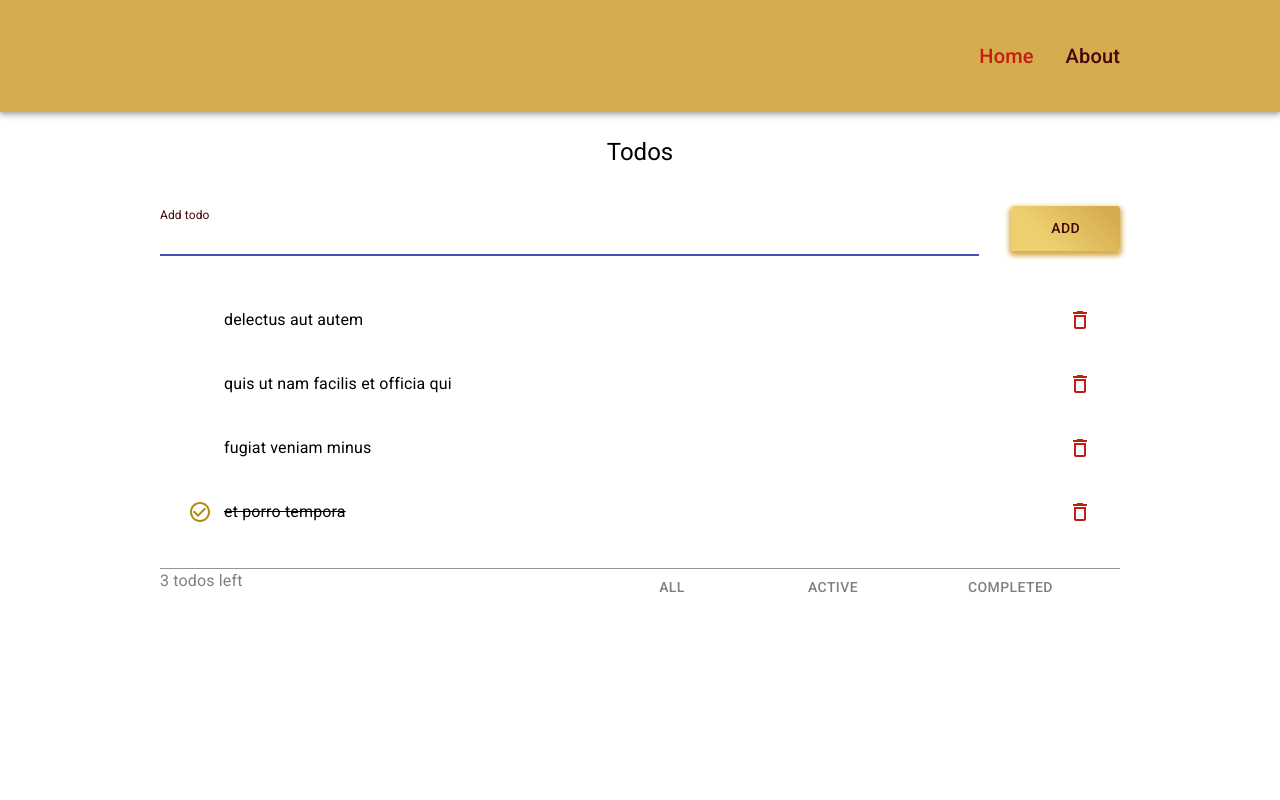
Test: Todos items › Removes a todo
Click the button without text in the row of "et porro tempora" at [1080, 512], box [1056, 488, 1104, 536]
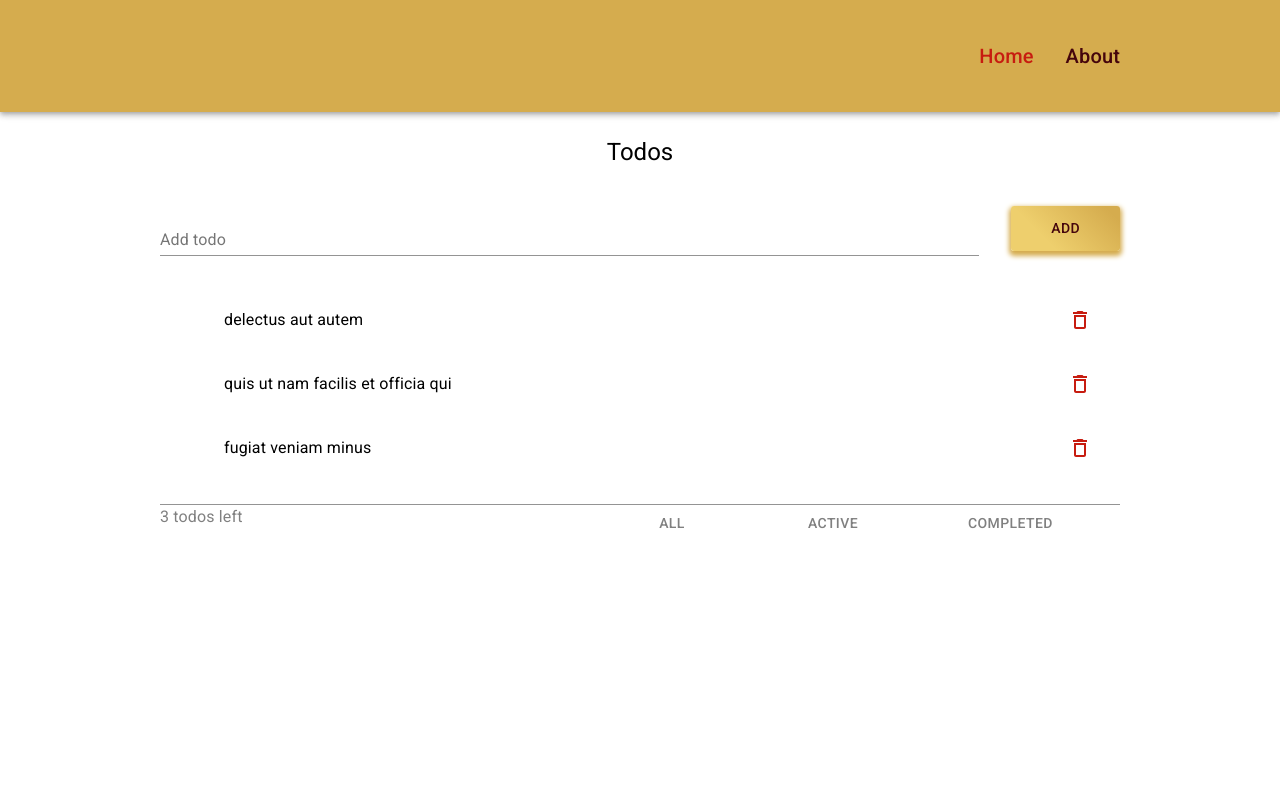
expect the text "et porro tempora" is gone: met
